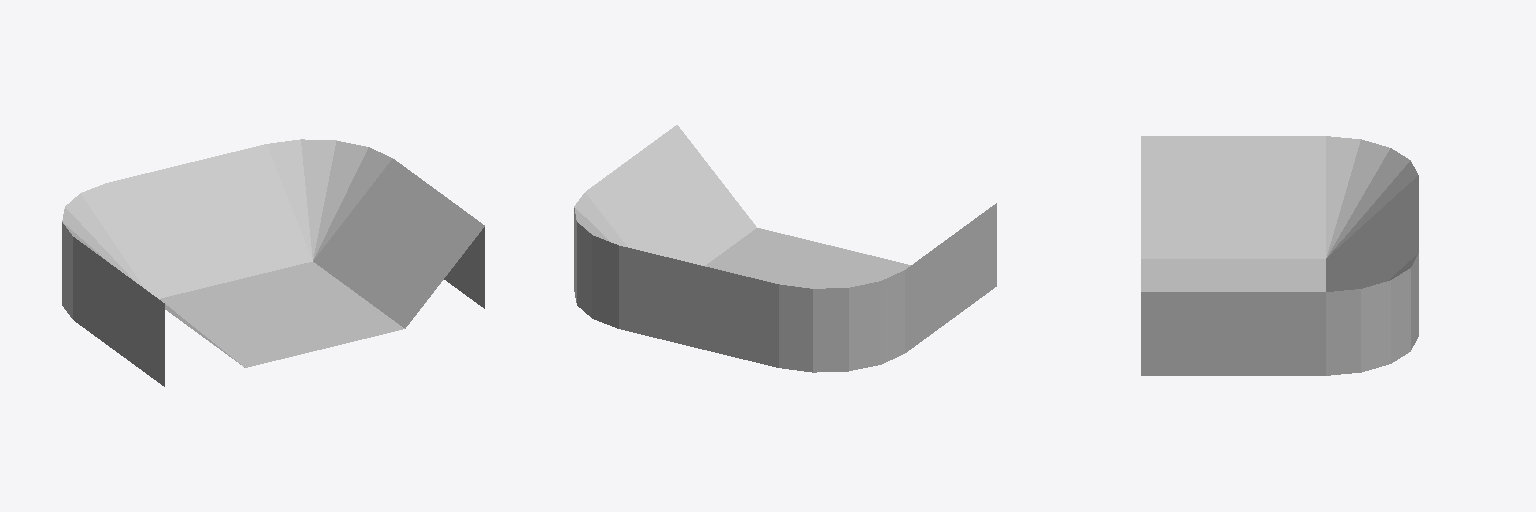
The model's file is stadium00.obj.
3 views of the same model, side by side, from view 1: azimuth 30°, elevation 25°; view 2: azimuth 150°, elevation 25°; view 3: azimuth 270°, elevation 25° (orthographic).
Parts seen in each view (by area): view 1: Mesh1 Model; view 2: Mesh1 Model; view 3: Mesh1 Model.
Part boxes in pixels (left/top/right/bottom): Mesh1 Model: left=62, top=139, right=484, bottom=386; Mesh1 Model: left=574, top=125, right=996, bottom=372; Mesh1 Model: left=1141, top=136, right=1418, bottom=375.
Size of the model in its own units: 100 by 25 by 75.